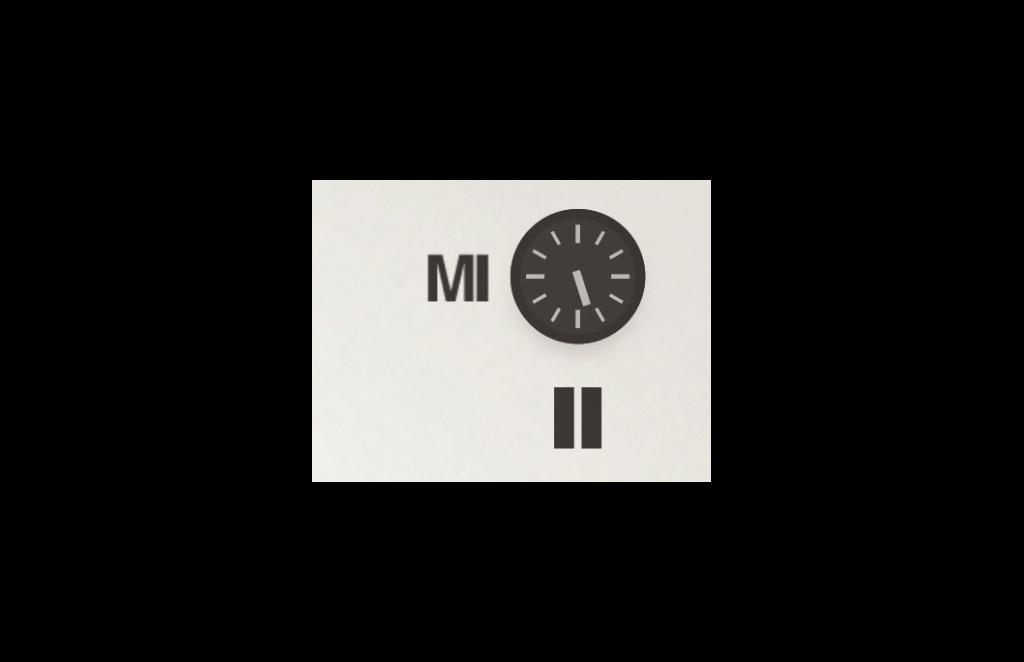pause: (514, 370, 650, 474)
play: (516, 477, 652, 482)
